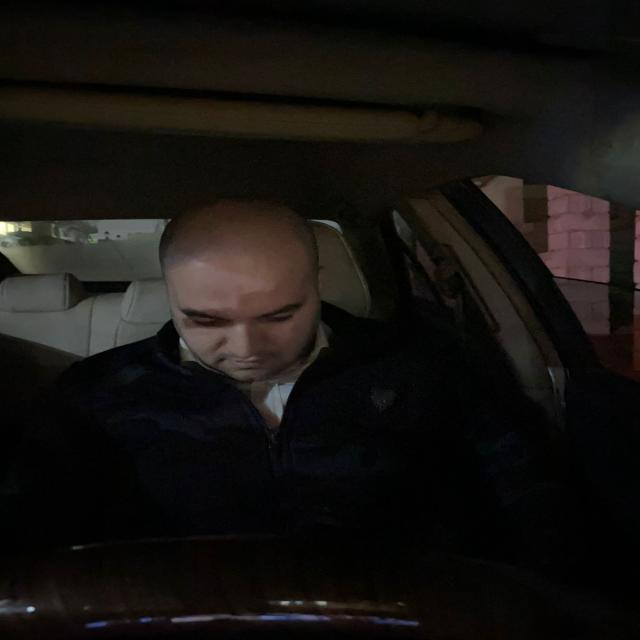drowsy: (152, 199, 340, 395)
